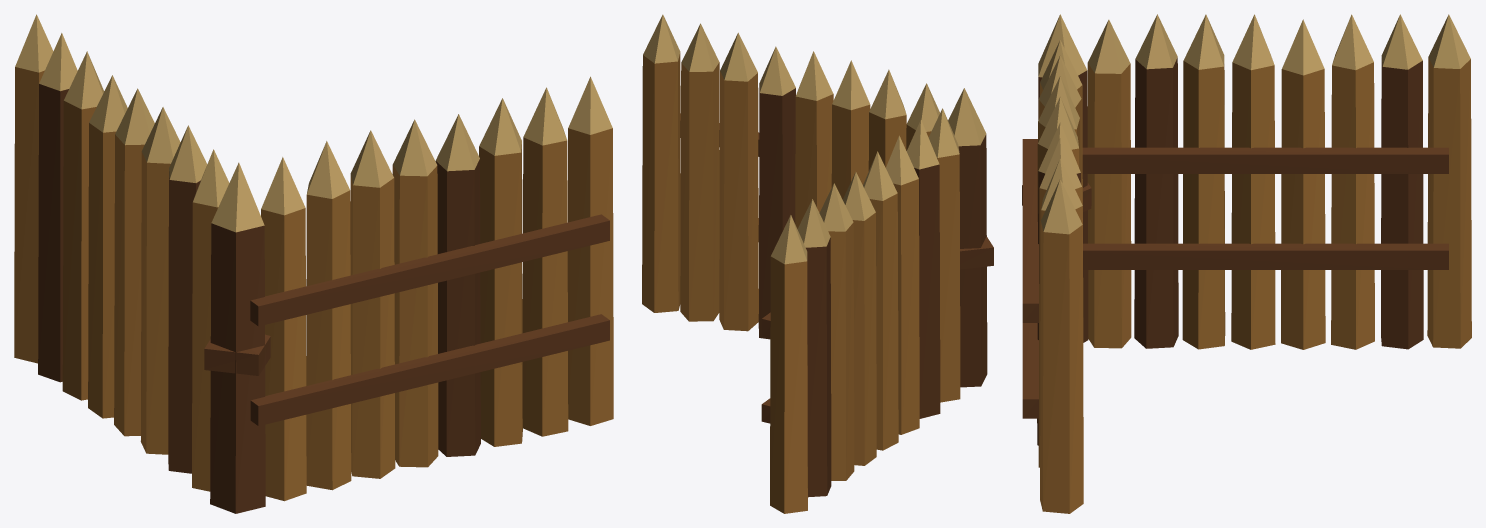
3 renders of one model, left to right at view 1: azimuth 30°, elevation 25°; view 2: azimuth 150°, elevation 25°; view 3: azimuth 270°, elevation 25°, orthographic. The views are drawn at different scales.
Parts seen in each view (by area): view 1: WK_W10_LOD2_Compact; view 2: WK_W10_LOD2_Compact; view 3: WK_W10_LOD2_Compact.
Boxes of the visible parts, <box> form: WK_W10_LOD2_Compact: <box>14,14,613,513</box>; WK_W10_LOD2_Compact: <box>642,14,993,513</box>; WK_W10_LOD2_Compact: <box>1022,14,1471,513</box>.
Bounding box in the file's own units: 4 × 3.2 × 4.
